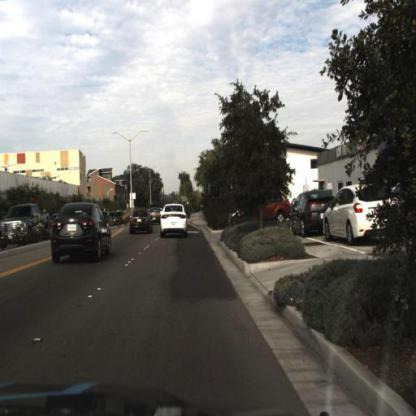car: (323, 185, 409, 245), (324, 182, 395, 247), (50, 202, 112, 268), (290, 188, 338, 240), (1, 201, 48, 253), (1, 203, 51, 248), (231, 193, 295, 228), (160, 201, 189, 240), (129, 208, 154, 239)
